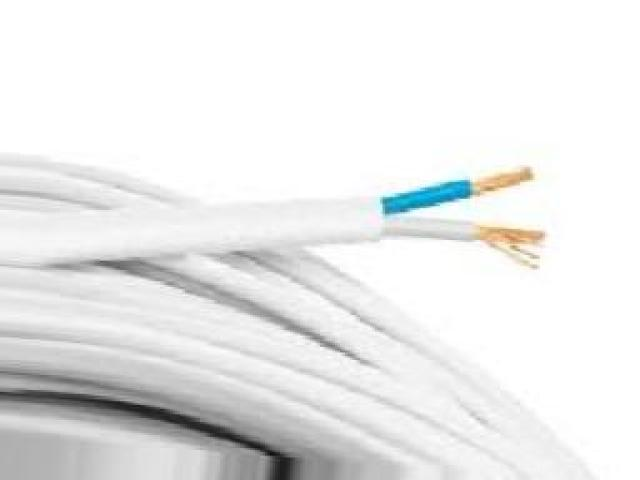wire: (0, 146, 625, 478)
